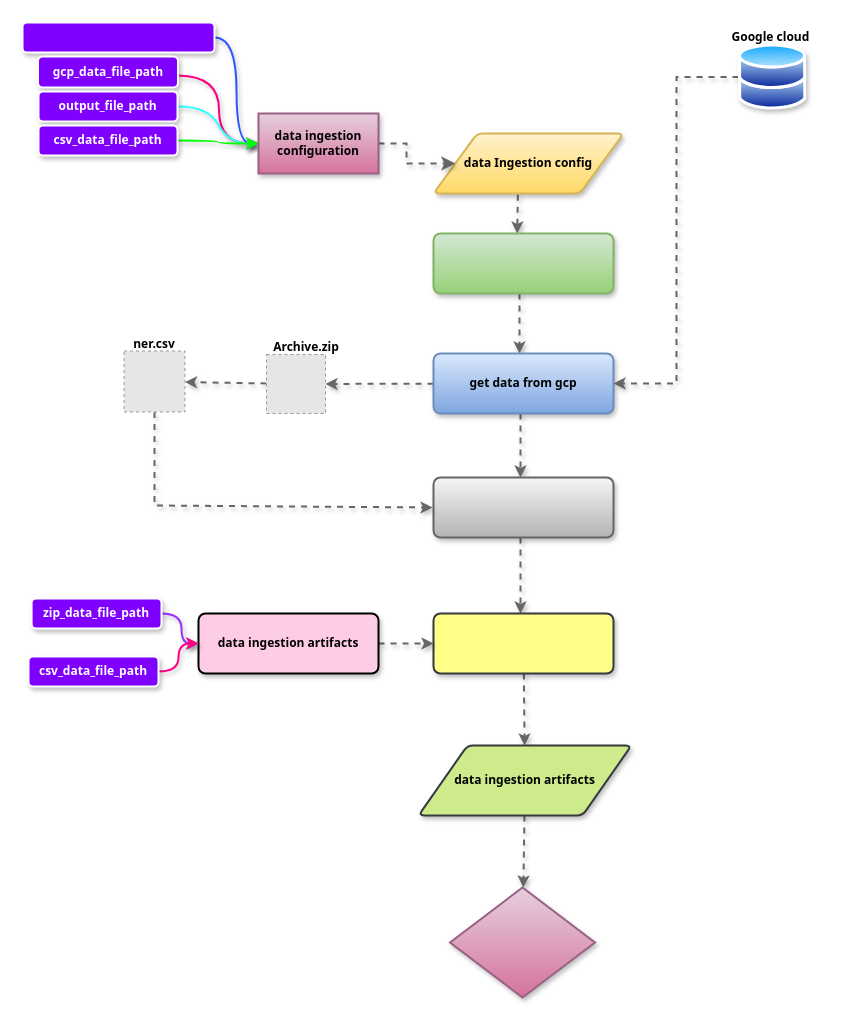
This 847x1022 diagram has some shape labels left out. Grey dashed boxes stand in for pictures. Each missing label, with the centre of its shape:
continued for data transformation: the point at 523,943
data_ingestion_artifact_dir: the point at 119,38
extract data: the point at 524,508
Initiate data ingestion: the point at 524,264
prepare data ingestion artifacts: the point at 524,644
